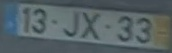1: (21, 6, 32, 34)
3: (115, 14, 133, 42), (134, 16, 152, 44), (32, 7, 47, 35)
J: (79, 11, 101, 41)
X: (62, 11, 80, 38)
